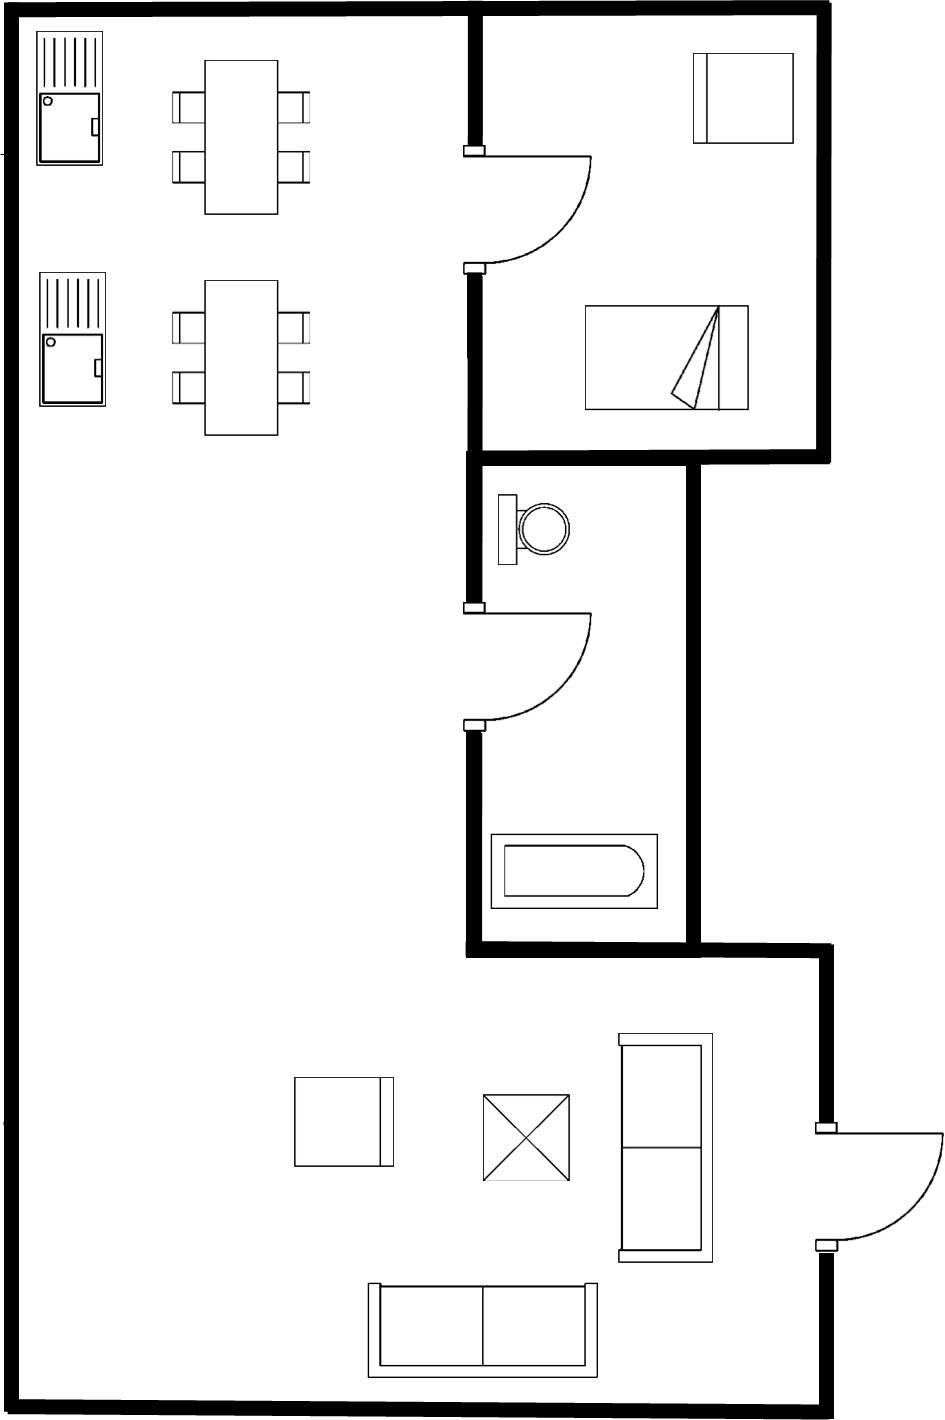bed: (573, 292, 757, 417)
dining_table: (159, 52, 319, 223), (165, 270, 319, 445)
sink: (30, 264, 115, 417), (26, 23, 109, 174)
sofa: (607, 1023, 719, 1273), (355, 1275, 604, 1386)
toilet: (487, 486, 576, 575)
tub: (484, 824, 666, 918)
